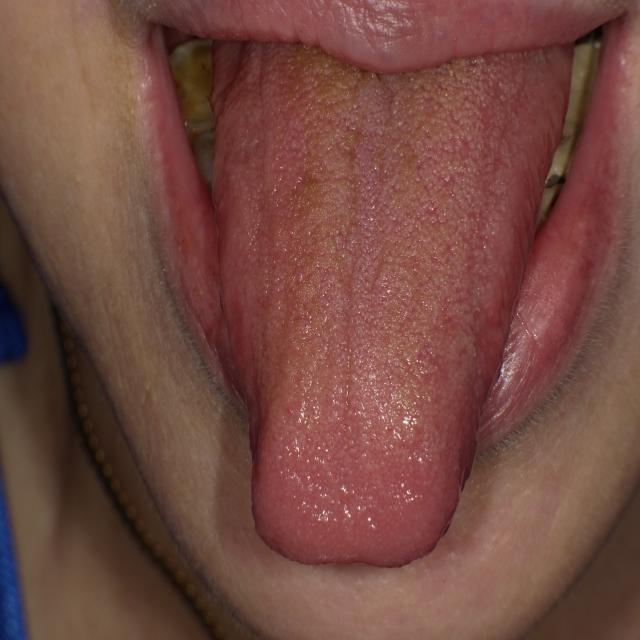huangtaishe: (212, 35, 575, 568)
